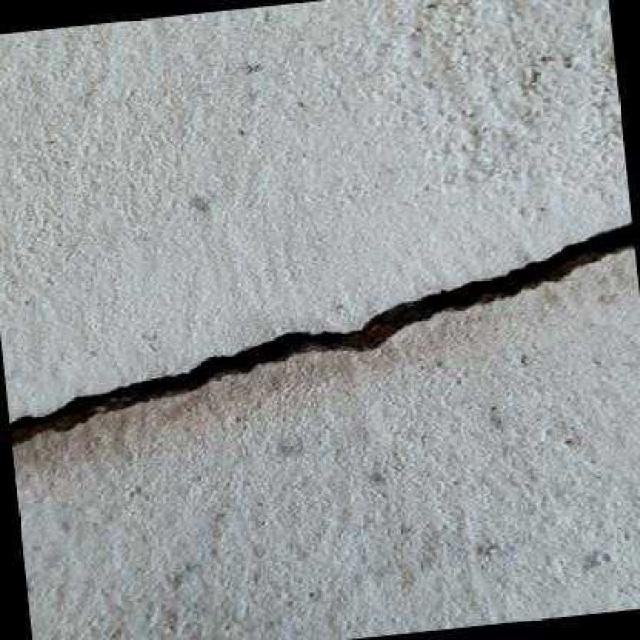D00: (8, 213, 635, 448)
